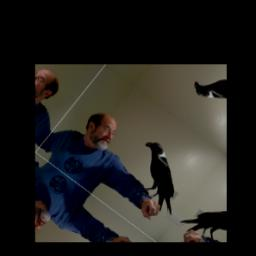Crow: (117, 135, 205, 219)
